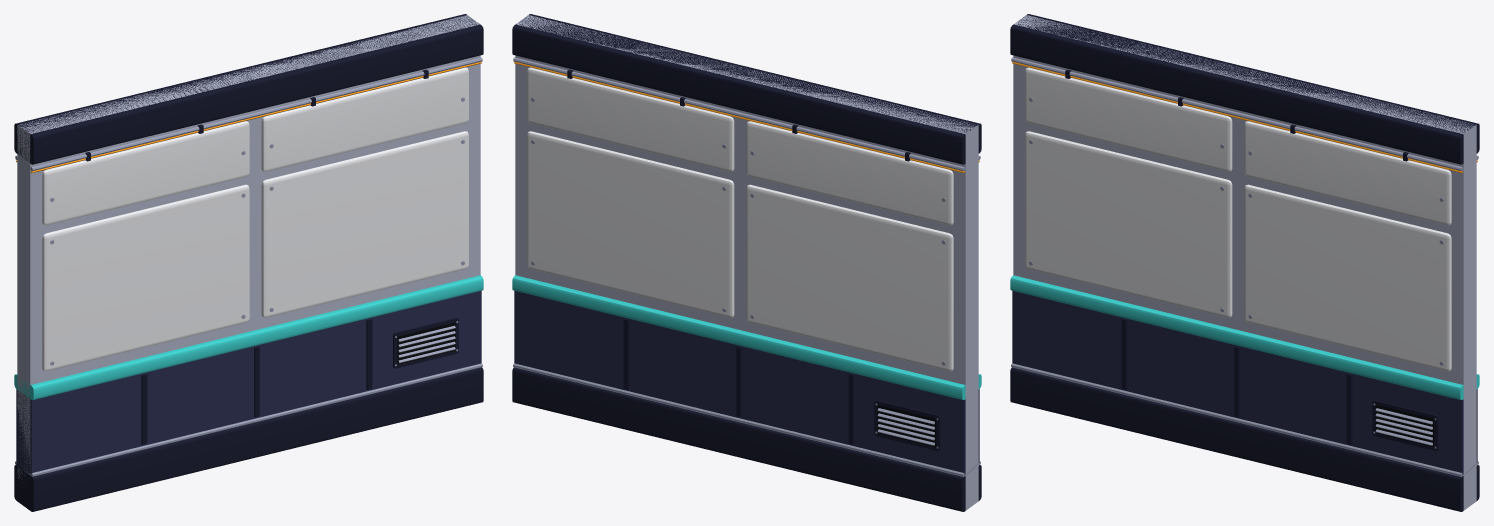
Rendered from wall.glb.
3 views of the same model, side by side, from view 1: azimuth 30°, elevation 25°; view 2: azimuth 150°, elevation 25°; view 3: azimuth 330°, elevation 25° (orthographic).
Visible parts, largest first — view 1: Body; view 2: Body; view 3: Body.
Boxes of the visible parts, box(x1,y1,x2,y2) form: Body: box(14, 14, 483, 511); Body: box(512, 14, 981, 511); Body: box(1010, 14, 1479, 511).
Size of the model in its own units: 4 by 3.2 by 0.3076.
